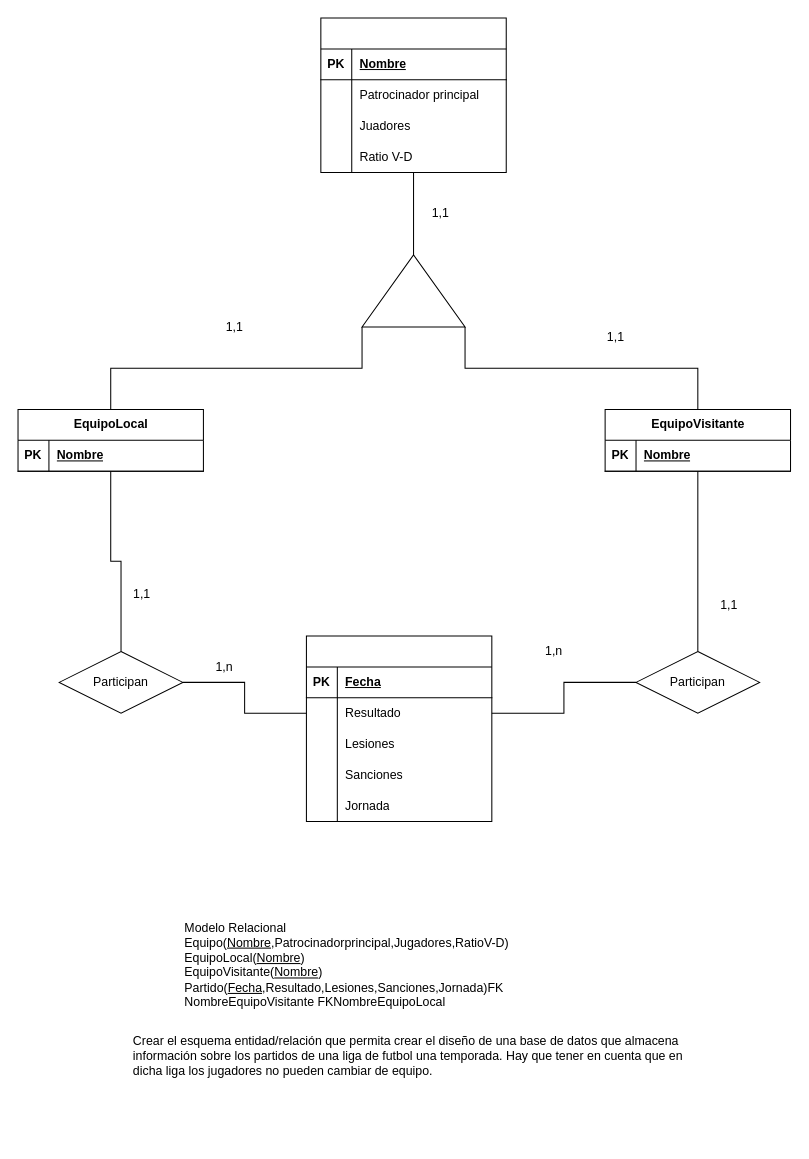
Image size: 809x1159. Some labels were removed from this diagram. Here are the shapes that lost their labels. From the top down, the box of each, then its label:
(320, 17, 506, 173): Equipo
(305, 635, 492, 821): Partido
